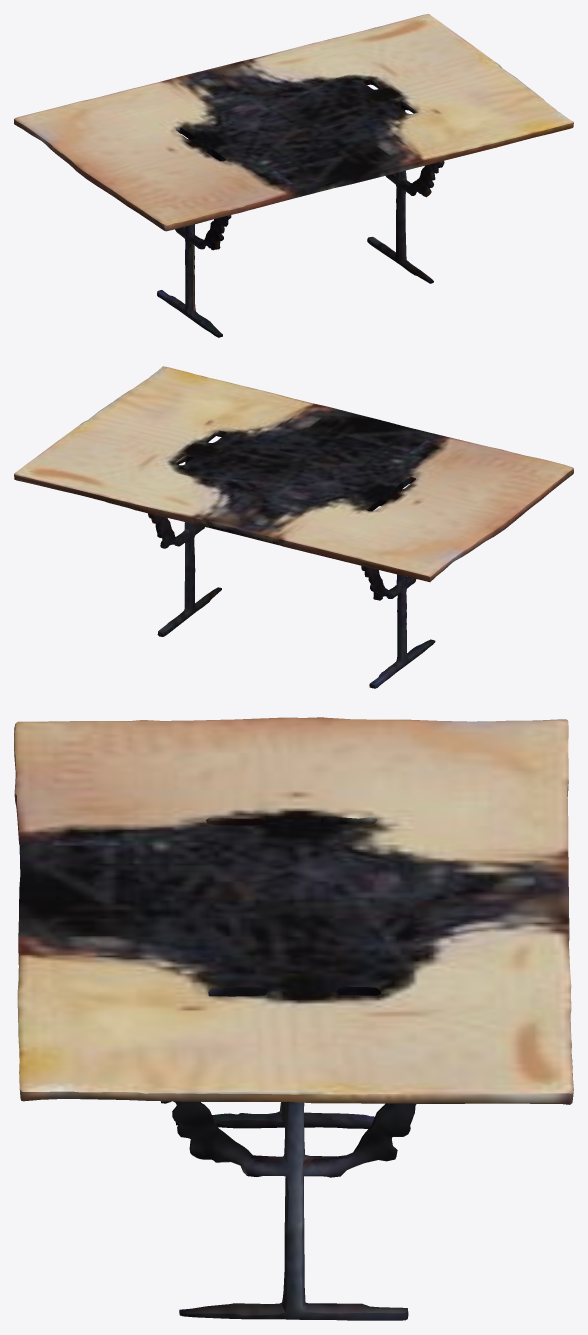
The picture shows the model from 3 angles, top to bottom: view 1: azimuth 30°, elevation 25°; view 2: azimuth 150°, elevation 25°; view 3: azimuth 270°, elevation 25°; orthographic projection. The views are drawn at different scales.
Visible parts, largest first — view 1: world; view 2: world; view 3: world.
Boxes of the visible parts, x1,y1,x2,y2 form: world: [14, 14, 573, 337]; world: [14, 366, 573, 688]; world: [14, 717, 573, 1320].
Bounding box in the file's own units: 0.5713 × 0.2247 × 0.3544.
Materials: 1 (1 with a texture image).
